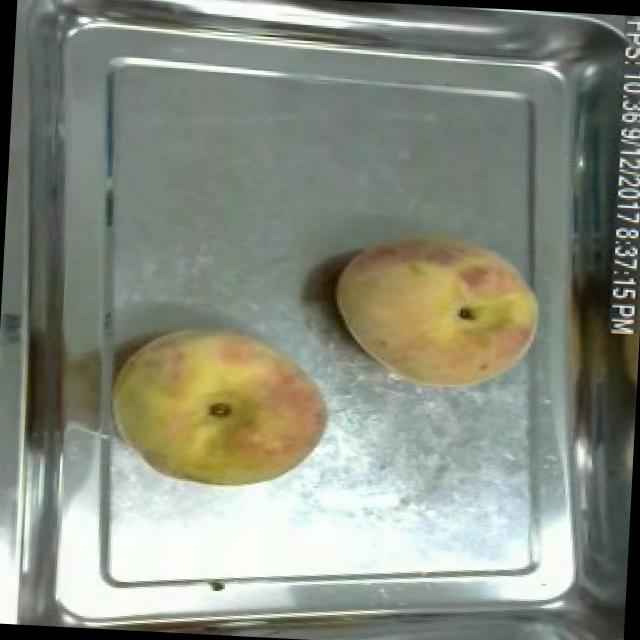Fruit: (100, 310, 335, 504), (324, 220, 548, 402)
